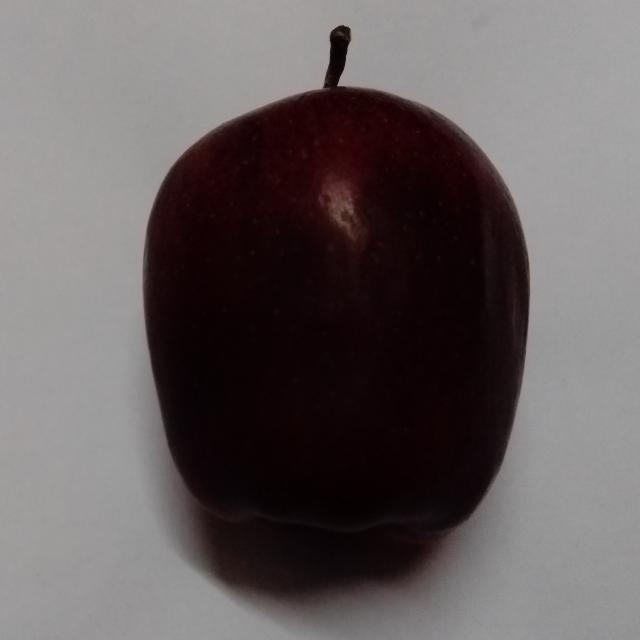apple: (145, 28, 529, 533)
